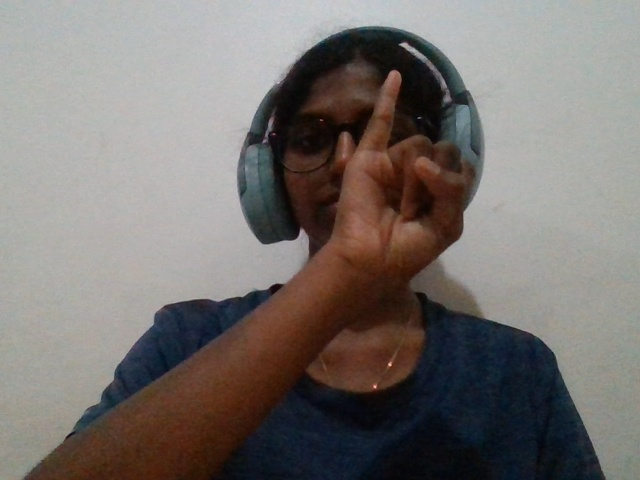I: (299, 60, 493, 332)
